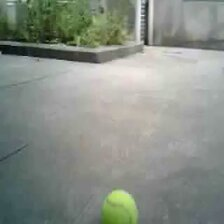tennis: (101, 188, 140, 224)
